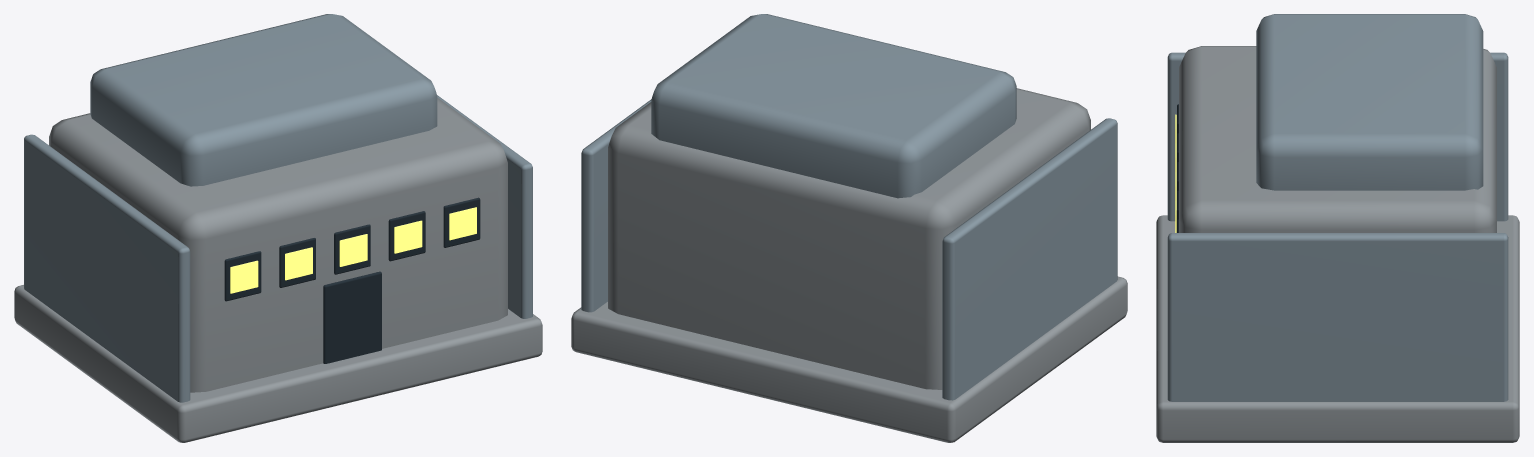
Rendered from Habitat.fbx.
3 renders of one model, left to right at view 1: azimuth 30°, elevation 25°; view 2: azimuth 150°, elevation 25°; view 3: azimuth 270°, elevation 25°, orthographic. The views are drawn at different scales.
Visible parts, largest first — view 1: Habitat_Concrete, Habitat_Steel, Habitat_Dark, Habitat_Amber; view 2: Habitat_Concrete, Habitat_Steel; view 3: Habitat_Steel, Habitat_Concrete.
Boxes of the visible parts, x1=… form: Habitat_Concrete: x1=14, y1=97, x2=542, y2=442; Habitat_Steel: x1=24, y1=14, x2=532, y2=402; Habitat_Dark: x1=224, y1=197, x2=480, y2=363; Habitat_Amber: x1=230, y1=207, x2=476, y2=293; Habitat_Concrete: x1=571, y1=88, x2=1127, y2=442; Habitat_Steel: x1=581, y1=14, x2=1117, y2=400; Habitat_Steel: x1=1167, y1=14, x2=1508, y2=401; Habitat_Concrete: x1=1156, y1=46, x2=1519, y2=442.
Bounding box in the file's own units: 1000 × 670 × 800.
